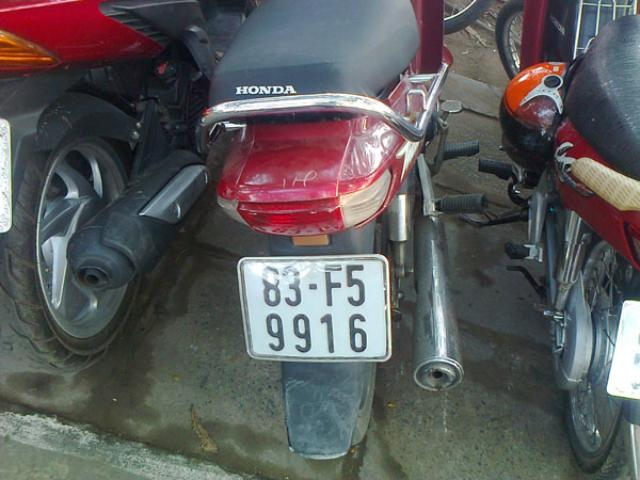plate: (246, 260, 386, 360)
